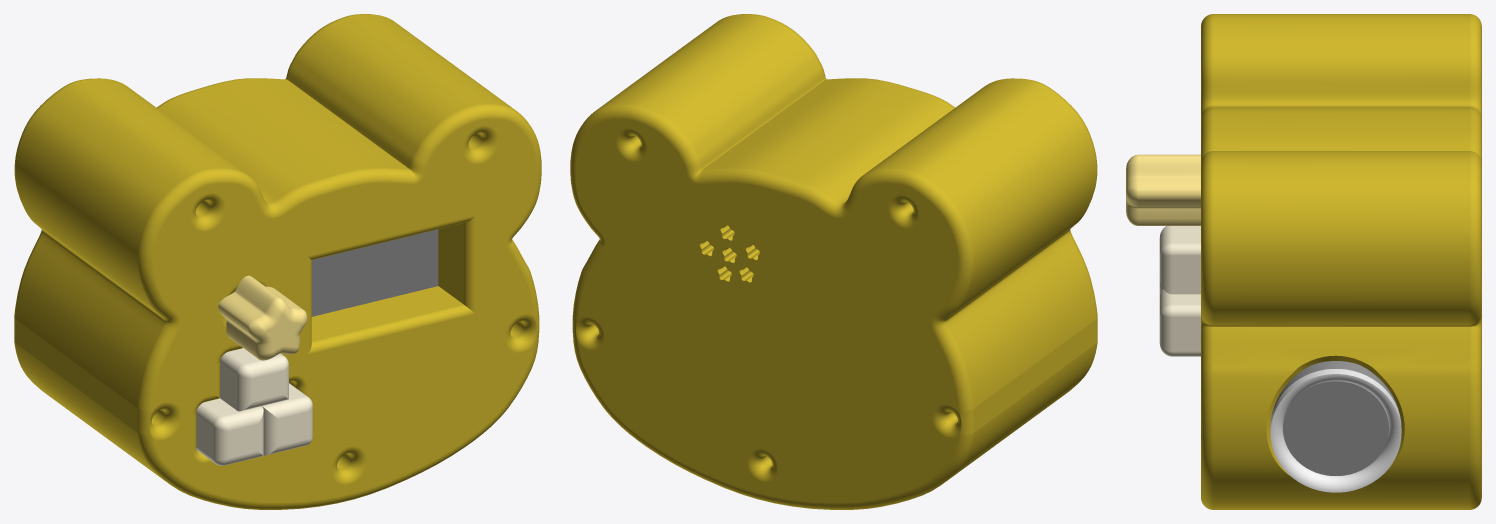
The model's file is majigotcha.gltf.
3 renders of one model, left to right at view 1: azimuth 30°, elevation 25°; view 2: azimuth 150°, elevation 25°; view 3: azimuth 270°, elevation 25°, orthographic. The views are drawn at different scales.
Parts seen in each view (by area): view 1: Part 2, Part 1, Display 1.3 OLED (Mauro) v5, Part 3, Part 6, Part 4, Part 5; view 2: Part 1, Part 2; view 3: Part 1 (×2), Part 2 (×2), Part 3, Part 4, Part 5.
Boxes of the visible parts, x1=… form: Part 2: x1=113, y1=86, x2=541, y2=509; Part 1: x1=14, y1=14, x2=489, y2=464; Display 1.3 OLED (Mauro) v5: x1=311, y1=229, x2=438, y2=316; Part 3: x1=218, y1=275, x2=307, y2=360; Part 6: x1=196, y1=398, x2=263, y2=465; Part 4: x1=220, y1=348, x2=288, y2=411; Part 5: x1=261, y1=383, x2=312, y2=455; Part 1: x1=570, y1=32, x2=1072, y2=509; Part 2: x1=695, y1=14, x2=1097, y2=410; Part 1 (×2): x1=1263, y1=14, x2=1481, y2=509; Part 2 (×2): x1=1201, y1=14, x2=1401, y2=509; Part 3: x1=1126, y1=154, x2=1200, y2=225; Part 4: x1=1159, y1=226, x2=1200, y2=294; Part 5: x1=1159, y1=289, x2=1200, y2=356.
Bounding box in the file's own units: 0.0796 × 0.0679 × 0.057.
